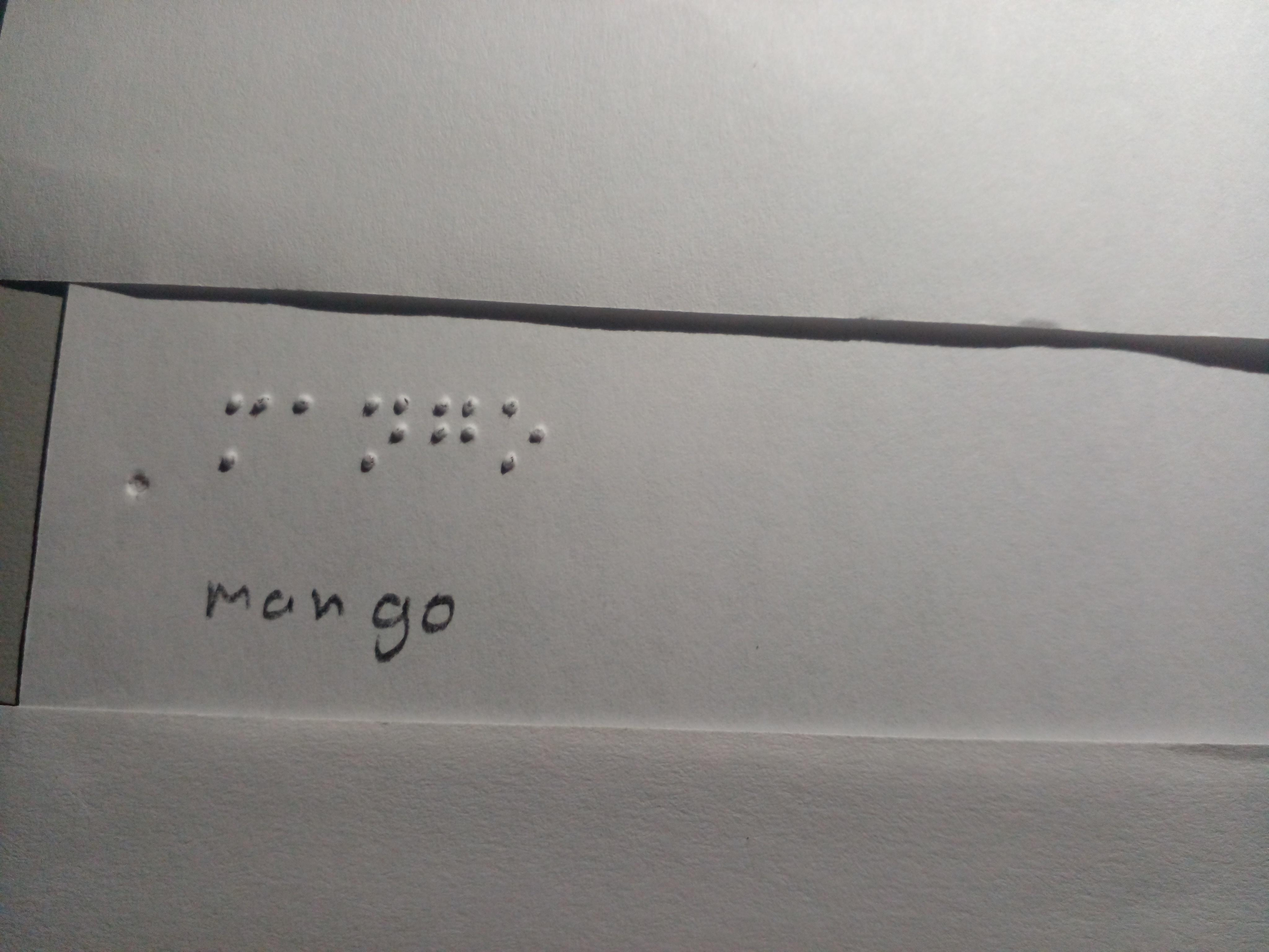a: (283, 384, 319, 443)
g: (428, 387, 486, 456)
m: (215, 372, 277, 474)
n: (355, 394, 417, 480)
o: (496, 392, 548, 482)
